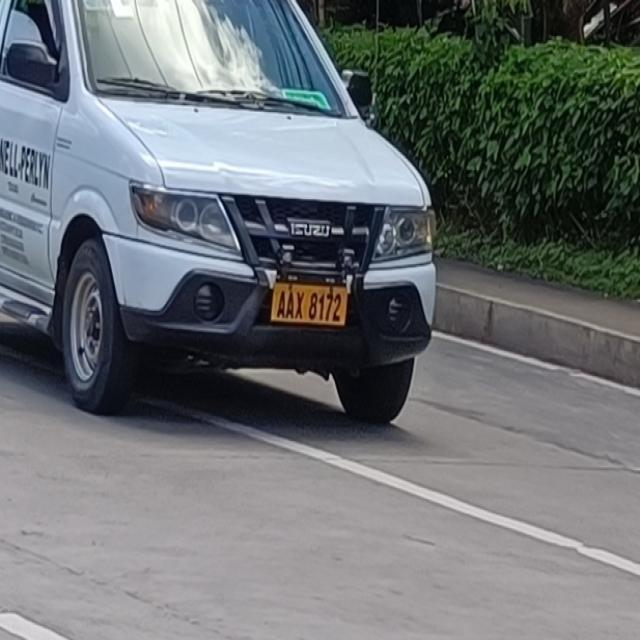LicensePlate: (261, 275, 355, 333)
